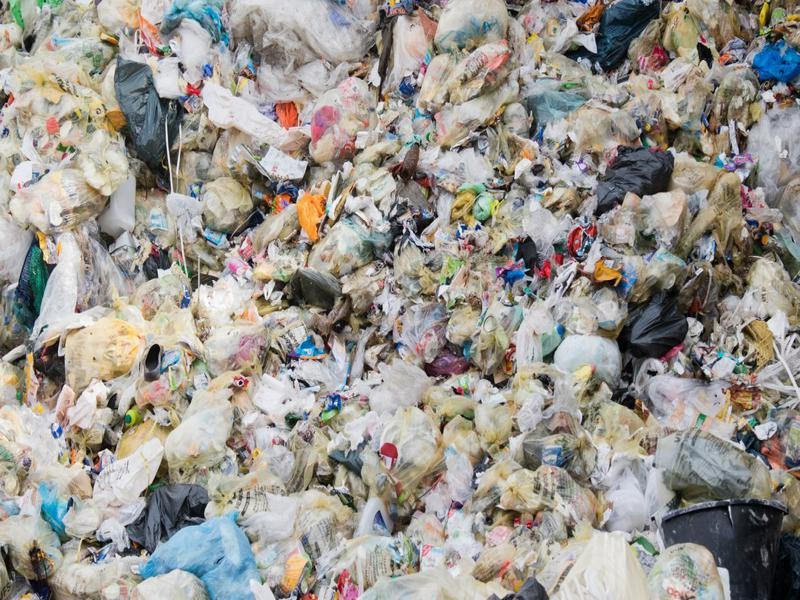plastic: (137, 514, 276, 600), (67, 436, 161, 547), (105, 54, 187, 174), (29, 242, 111, 349), (414, 44, 525, 114), (594, 132, 684, 216), (8, 164, 115, 234), (195, 74, 293, 150), (160, 384, 238, 471), (60, 318, 145, 388), (587, 1, 665, 75), (127, 478, 208, 545), (615, 297, 690, 361), (424, 1, 515, 53), (551, 328, 627, 387), (367, 352, 435, 408), (281, 266, 347, 306), (750, 38, 800, 84)
